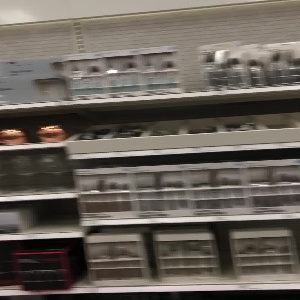void: (29, 198, 78, 234)
